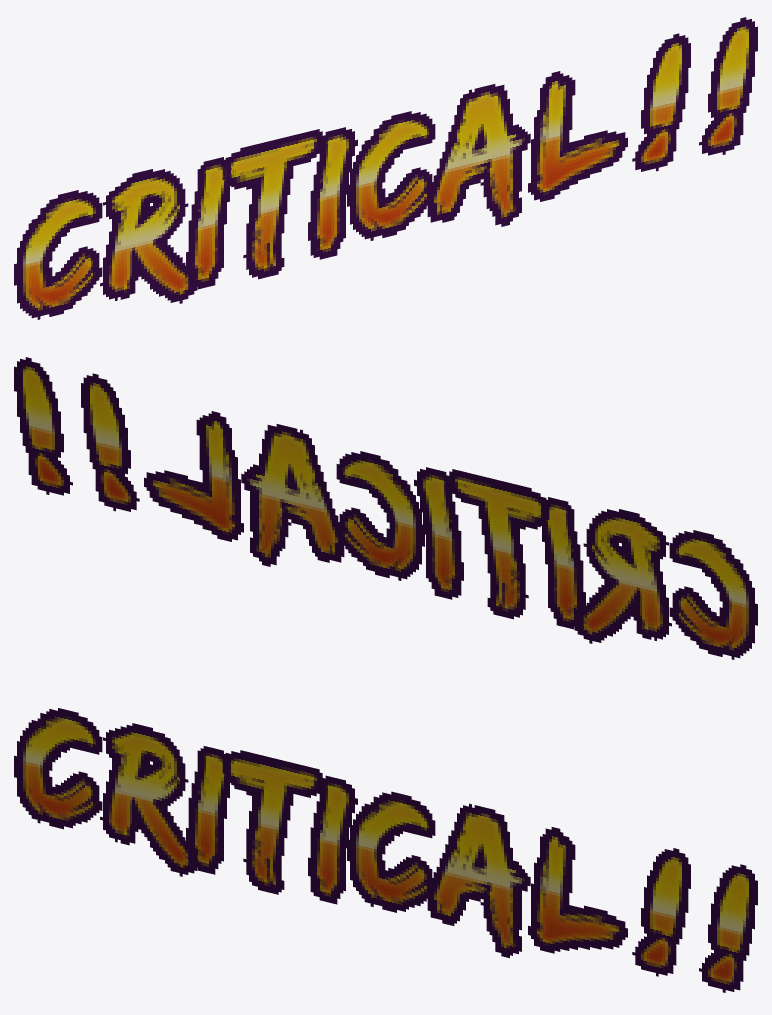
File: effect_critical_1.FBX
The picture shows the model from 3 angles, top to bottom: view 1: azimuth 30°, elevation 25°; view 2: azimuth 150°, elevation 25°; view 3: azimuth 330°, elevation 25°; orthographic projection.
Visible parts, largest first — view 1: effect_critical_5, effect_critical_2, effect_critical_1_1, effect_critical_1_2, effect_critical_4, effect_critical_6, effect_critical_7_1, effect_critical_7_2, effect_critical_3_2, effect_critical_3_1; view 2: effect_critical_5, effect_critical_2, effect_critical_1_1, effect_critical_1_2, effect_critical_4, effect_critical_6, effect_critical_7_1, effect_critical_7_2, effect_critical_3_2, effect_critical_3_1; view 3: effect_critical_5, effect_critical_2, effect_critical_1_1, effect_critical_1_2, effect_critical_4, effect_critical_6, effect_critical_7_1, effect_critical_7_2, effect_critical_3_2, effect_critical_3_1.
Part boxes in pixels (bbox=[...]): effect_critical_5: bbox=[424, 84, 530, 226]; effect_critical_2: bbox=[100, 169, 197, 303]; effect_critical_1_1: bbox=[14, 190, 102, 319]; effect_critical_1_2: bbox=[347, 111, 435, 240]; effect_critical_4: bbox=[222, 129, 322, 279]; effect_critical_6: bbox=[528, 71, 627, 201]; effect_critical_7_1: bbox=[632, 33, 690, 171]; effect_critical_7_2: bbox=[699, 17, 757, 155]; effect_critical_3_2: bbox=[308, 127, 357, 259]; effect_critical_3_1: bbox=[186, 157, 235, 289]; effect_critical_5: bbox=[241, 424, 347, 566]; effect_critical_2: bbox=[574, 509, 671, 643]; effect_critical_1_1: bbox=[669, 530, 757, 659]; effect_critical_1_2: bbox=[336, 451, 424, 580]; effect_critical_4: bbox=[446, 469, 549, 619]; effect_critical_6: bbox=[144, 411, 243, 541]; effect_critical_7_1: bbox=[81, 373, 139, 511]; effect_critical_7_2: bbox=[14, 357, 72, 495]; effect_critical_3_2: bbox=[414, 467, 463, 599]; effect_critical_3_1: bbox=[540, 497, 585, 629]; effect_critical_5: bbox=[424, 803, 530, 958]; effect_critical_2: bbox=[100, 723, 197, 876]; effect_critical_1_1: bbox=[14, 708, 102, 829]; effect_critical_1_2: bbox=[347, 791, 435, 912]; effect_critical_4: bbox=[222, 750, 322, 894]; effect_critical_6: bbox=[528, 827, 627, 953]; effect_critical_7_1: bbox=[632, 848, 690, 976]; effect_critical_7_2: bbox=[699, 864, 757, 992]; effect_critical_3_2: bbox=[308, 775, 357, 904]; effect_critical_3_1: bbox=[186, 746, 231, 874].
Bounding box in the file's own units: 341 × 67.13 × 2.89e-06.
Materials: 7 (7 with a texture image).
